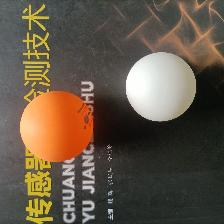WhiteBall: (125, 51, 195, 121)
YellowBall: (18, 90, 93, 162)
